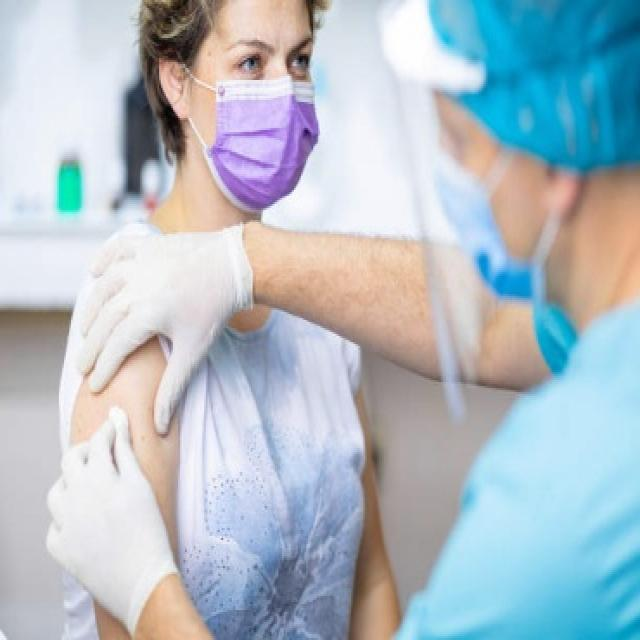adult: (35, 0, 409, 640)
